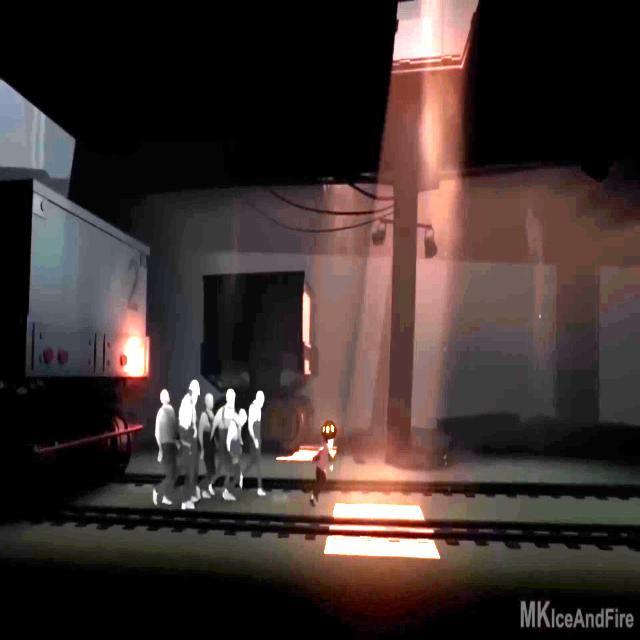boy: (310, 438, 336, 505)
zombie: (180, 380, 200, 509), (153, 388, 175, 504), (223, 408, 248, 499), (248, 391, 266, 495), (202, 394, 215, 496), (217, 389, 235, 407)
